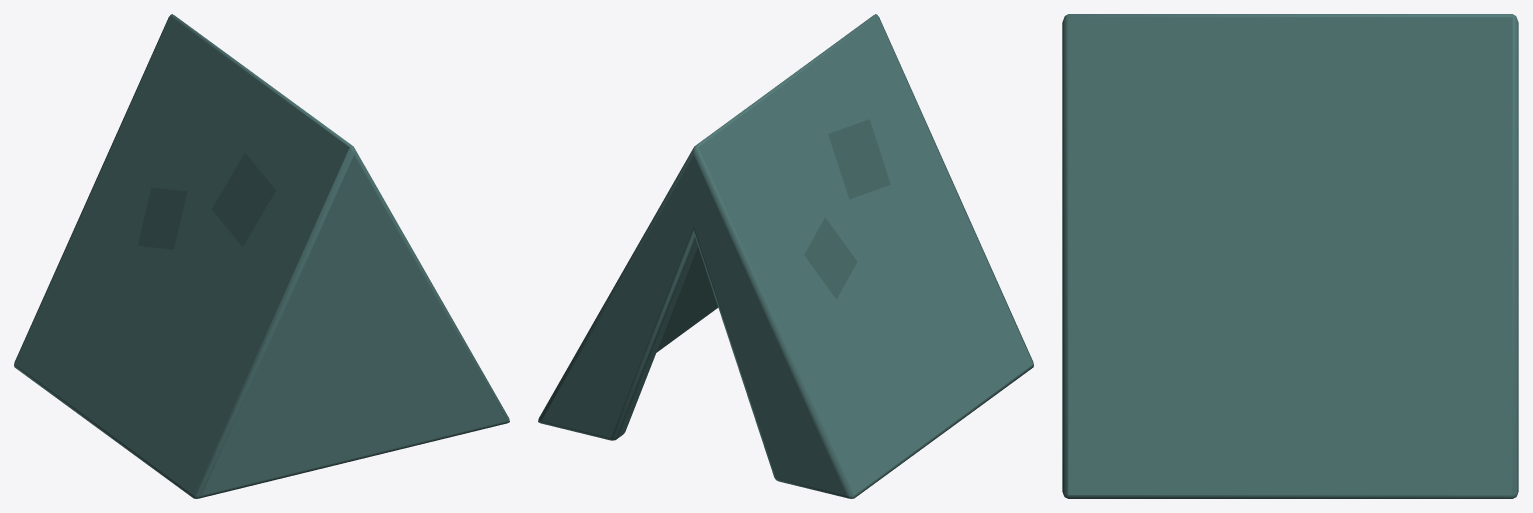
File: Tent_01.obj
3 views of the same model, side by side, from view 1: azimuth 30°, elevation 25°; view 2: azimuth 150°, elevation 25°; view 3: azimuth 270°, elevation 25° (orthographic). The views are drawn at different scales.
Parts seen in each view (by area): view 1: Tent_01; view 2: Tent_01; view 3: Tent_01.
Boxes of the visible parts, x1,y1,x2,y2 form: Tent_01: [14, 14, 509, 498]; Tent_01: [538, 14, 1033, 498]; Tent_01: [1062, 14, 1518, 498].
Bounding box in the file's own units: 2.97 × 2.83 × 3.
